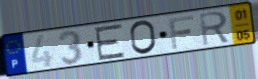3: (57, 27, 85, 67)
4: (30, 33, 56, 68)
E: (93, 22, 127, 62)
F: (167, 14, 196, 51)
O: (129, 19, 159, 56)
R: (198, 9, 232, 48)
